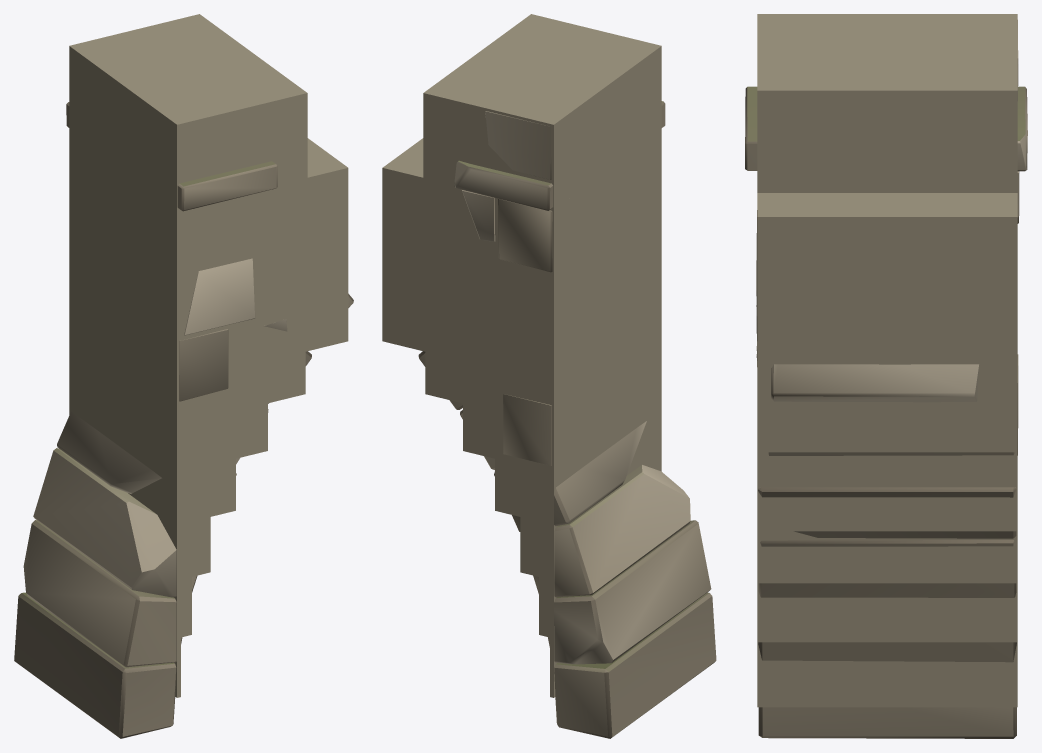
Rendered from viaduct_top_arch_broken.glb.
The picture shows the model from 3 angles, left to right: view 1: azimuth 30°, elevation 25°; view 2: azimuth 150°, elevation 25°; view 3: azimuth 270°, elevation 25°; orthographic projection. The views are drawn at different scales.
Parts seen in each view (by area): view 1: viaduct_top_arch_broken_far, viaduct_top_arch_broken; view 2: viaduct_top_arch_broken_far, viaduct_top_arch_broken; view 3: viaduct_top_arch_broken_far, viaduct_top_arch_broken.
Part boxes in pixels (left/top/right/bottom): viaduct_top_arch_broken_far: left=69, top=14, right=348, bottom=697; viaduct_top_arch_broken: left=14, top=102, right=353, bottom=738; viaduct_top_arch_broken_far: left=382, top=14, right=661, bottom=697; viaduct_top_arch_broken: left=418, top=101, right=716, bottom=738; viaduct_top_arch_broken_far: left=757, top=14, right=1017, bottom=707; viaduct_top_arch_broken: left=745, top=20, right=1027, bottom=738.
Size of the model in its own units: 7.71 by 18.49 by 6.52.
